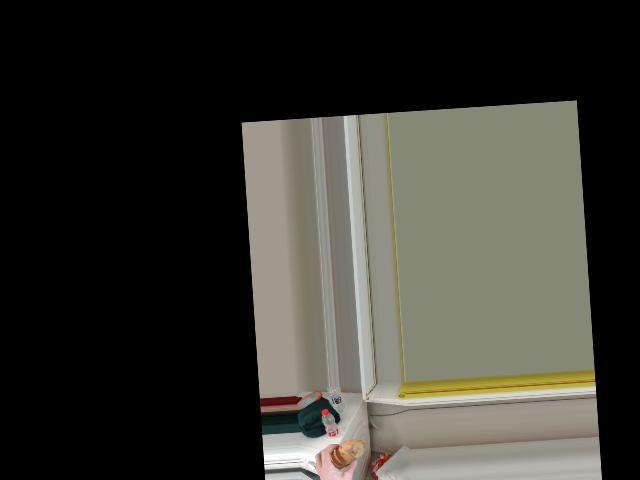sweet_potato: (328, 437, 360, 470)
